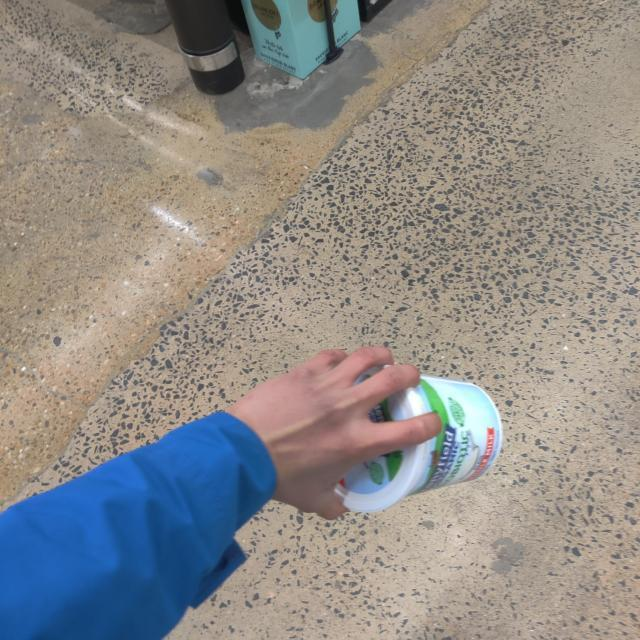Yogurt: (302, 354, 521, 513)
